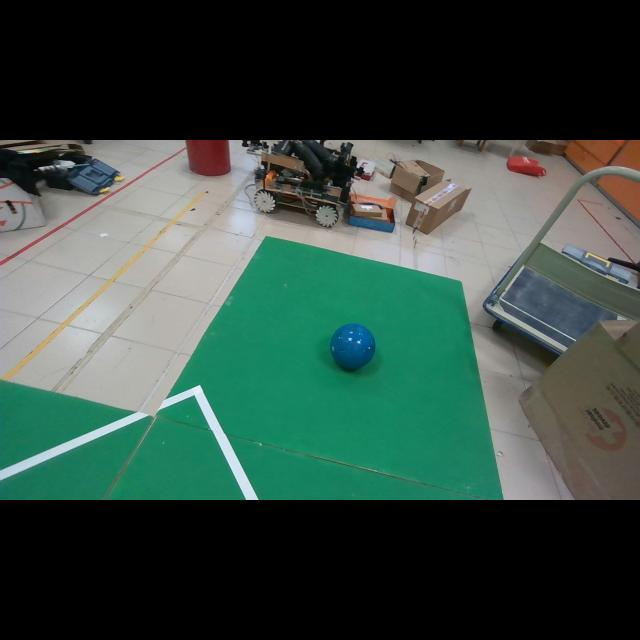B: (330, 324, 376, 370)
